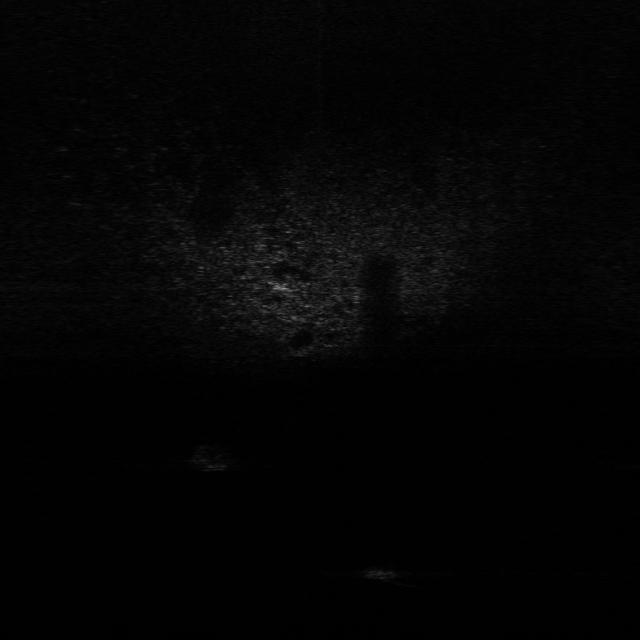circle cage: (180, 430, 236, 471)
cylinder: (362, 556, 398, 584)
